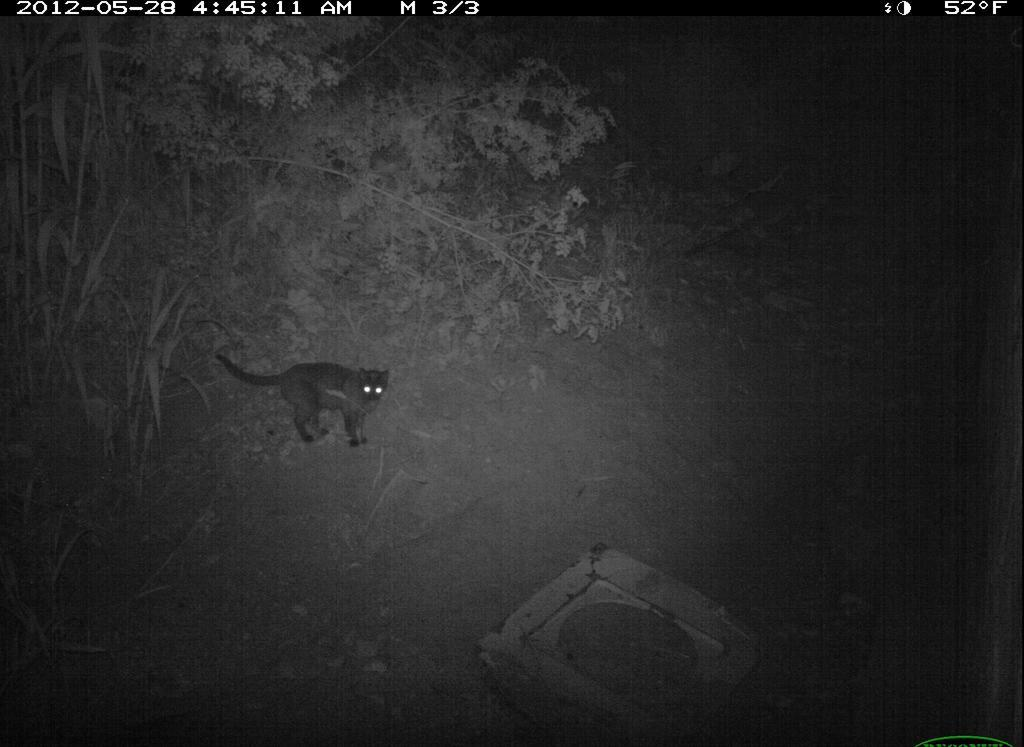cat: (214, 346, 399, 454)
